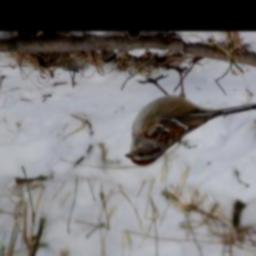Sparrow: (120, 63, 256, 171)
